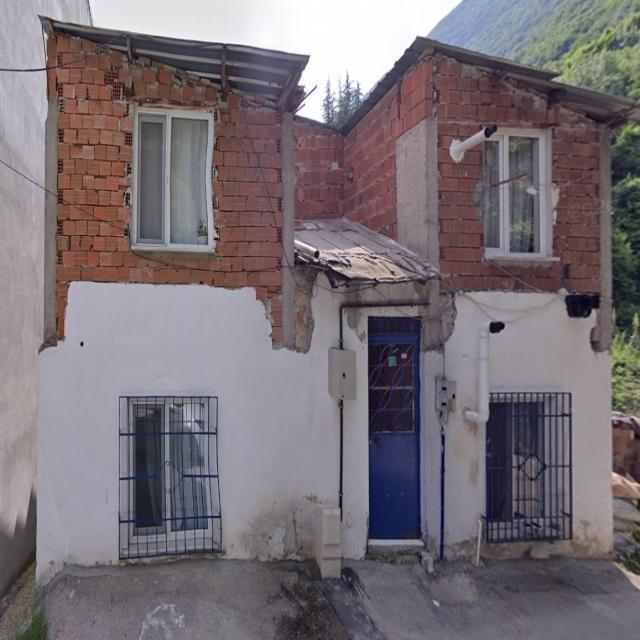Building: (33, 19, 640, 602)
